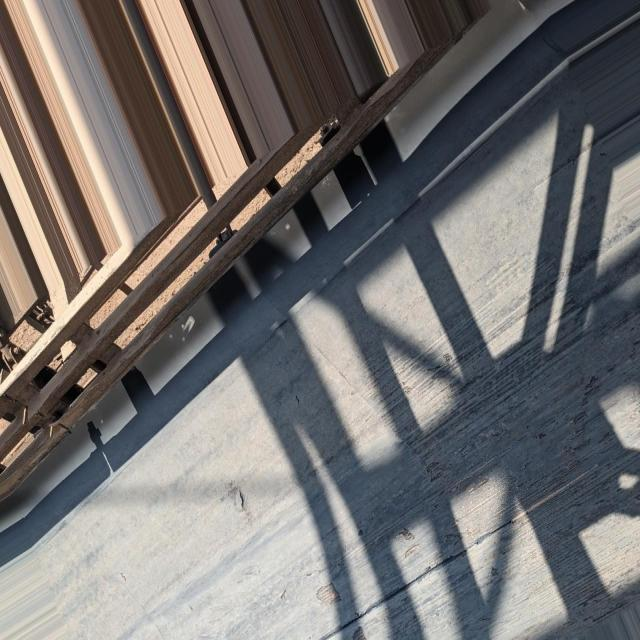Tear: (308, 511, 525, 640), (237, 485, 246, 512), (295, 395, 303, 406)
